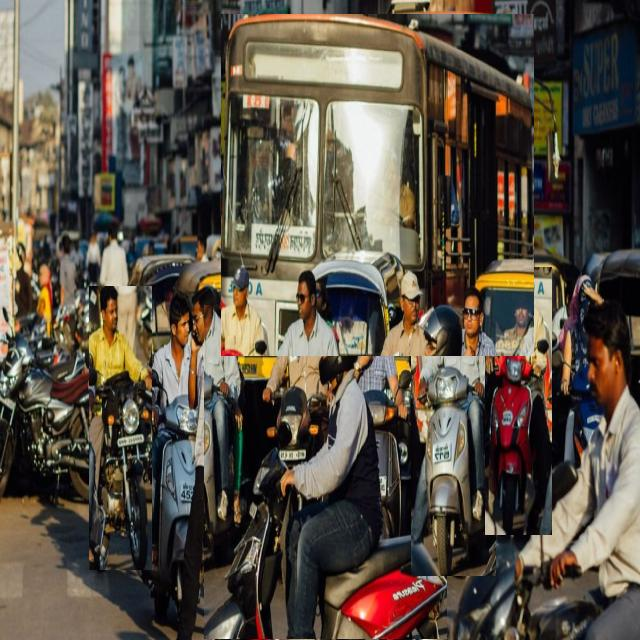bus: (221, 14, 534, 356)
motorcycle: (205, 306, 447, 639), (411, 270, 496, 576), (139, 294, 198, 613), (485, 267, 552, 535), (89, 286, 152, 570), (0, 334, 96, 499)
